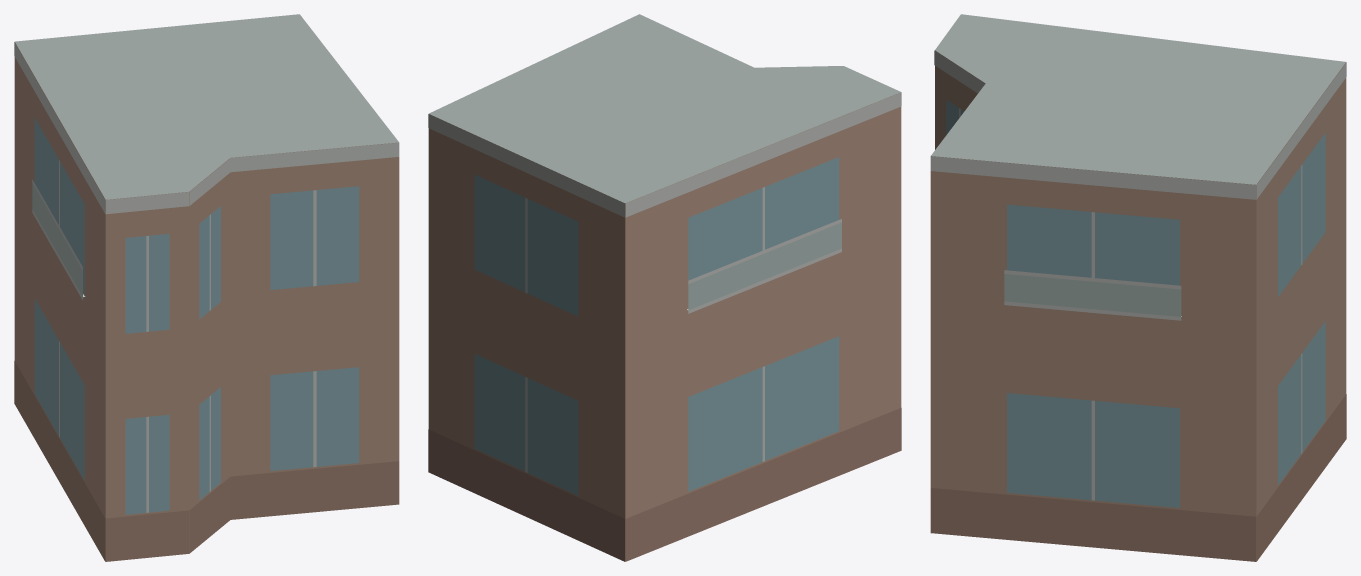
The model's file is survey-upis-32546420.glb.
The picture shows the model from 3 angles, left to right: view 1: azimuth 30°, elevation 25°; view 2: azimuth 150°, elevation 25°; view 3: azimuth 270°, elevation 25°; orthographic projection. The views are drawn at different scales.
Visible parts, largest first — view 1: survey-upis-32546420.tmp; view 2: survey-upis-32546420.tmp; view 3: survey-upis-32546420.tmp.
Boxes of the visible parts, left/top/right/bottom form: survey-upis-32546420.tmp: left=14, top=14, right=399, bottom=561; survey-upis-32546420.tmp: left=428, top=14, right=901, bottom=561; survey-upis-32546420.tmp: left=930, top=14, right=1346, bottom=561.
Size of the model in its own units: 5.94 by 6.1 by 6.11.
